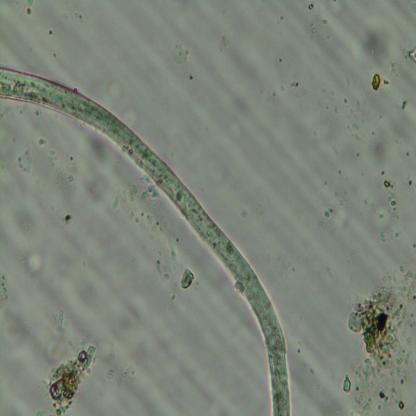Background material: (334, 263, 416, 416), (100, 172, 166, 241), (44, 341, 100, 413), (362, 20, 394, 71), (84, 134, 117, 174), (364, 128, 394, 169), (20, 249, 45, 283), (106, 366, 135, 394), (301, 17, 331, 43), (384, 174, 400, 221), (14, 208, 38, 238), (15, 143, 36, 176), (178, 263, 198, 296), (50, 304, 69, 338), (49, 167, 73, 193), (167, 45, 190, 68), (104, 77, 125, 101), (0, 273, 14, 307), (212, 30, 230, 56), (153, 256, 172, 278), (318, 202, 333, 227), (12, 0, 34, 17), (120, 109, 140, 126), (367, 74, 384, 94), (351, 118, 364, 144), (290, 75, 305, 96), (335, 186, 350, 205), (46, 148, 60, 167), (398, 98, 411, 112), (62, 208, 73, 224), (31, 106, 42, 122), (44, 26, 58, 38), (409, 0, 416, 21), (405, 50, 416, 62), (376, 208, 386, 221), (307, 0, 315, 15), (406, 174, 414, 188), (341, 93, 350, 105), (73, 12, 82, 24), (38, 134, 46, 146), (380, 232, 388, 244), (384, 79, 389, 87)
Microfibre: (0, 66, 291, 416)
